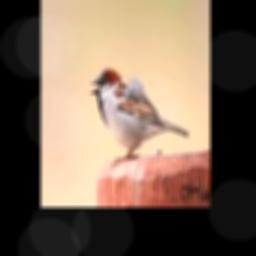Sparrow: (89, 66, 188, 166)
